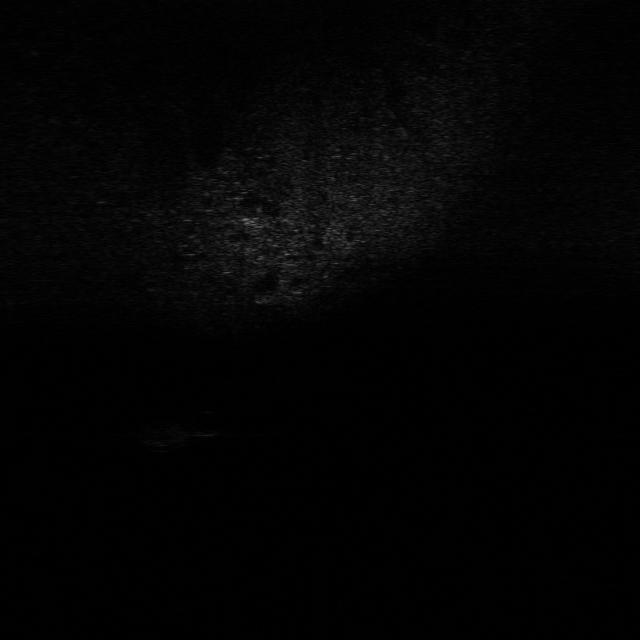ball: (190, 407, 226, 440)
circle cage: (136, 419, 196, 455)
